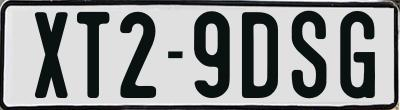2: (119, 12, 156, 98)
9: (194, 9, 236, 101)
D: (239, 12, 275, 102)
G: (338, 11, 374, 102)
S: (289, 10, 325, 103)
T: (75, 11, 112, 97)
X: (34, 9, 72, 99)
